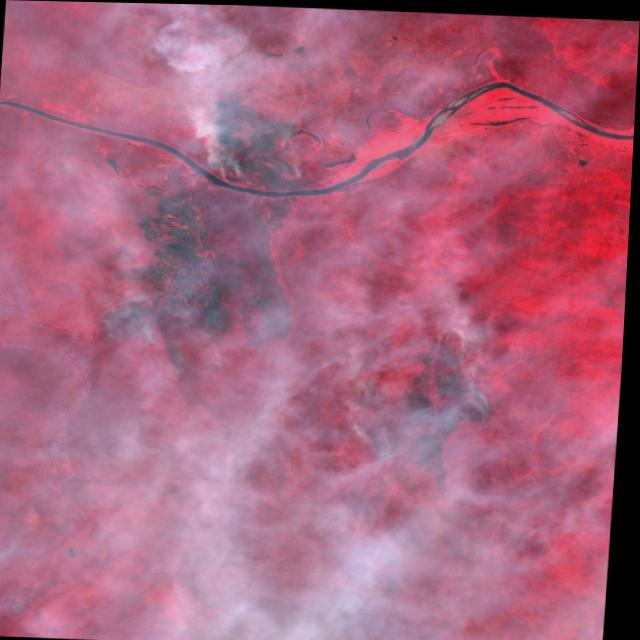fire: (202, 126, 256, 187)
